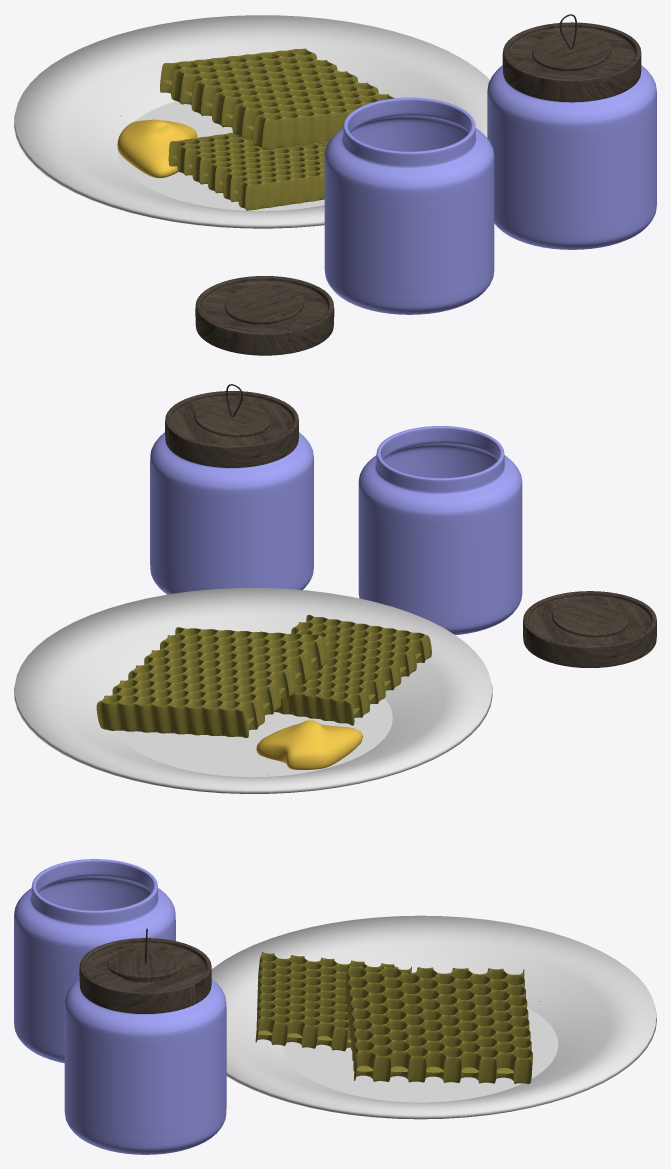
3 renders of one model, top to bottom at view 1: azimuth 30°, elevation 25°; view 2: azimuth 150°, elevation 25°; view 3: azimuth 270°, elevation 25°, orthographic. The views are drawn at different scales.
Parts seen in each view (by area): view 1: Circle, honey_pot.002, honey_pot.001, Círculo.001, pot_small_cup.001, pot_small_cup, honey.003; view 2: Circle, honey_pot.002, Círculo.001, honey_pot.001, pot_small_cup.001, pot_small_cup, honey.003; view 3: Circle, Círculo.001, honey_pot.001, honey_pot.002, pot_small_cup.
Boxes of the visible parts, x1=… form: Circle: x1=14, y1=15, x2=489, y2=228; honey_pot.002: x1=324, y1=97, x2=494, y2=314; honey_pot.001: x1=487, y1=65, x2=656, y2=249; Círculo.001: x1=160, y1=48, x2=394, y2=210; pot_small_cup.001: x1=195, y1=276, x2=334, y2=355; pot_small_cup: x1=502, y1=22, x2=641, y2=102; honey.003: x1=117, y1=119, x2=197, y2=178; Circle: x1=14, y1=588, x2=492, y2=793; honey_pot.002: x1=358, y1=426, x2=522, y2=634; Círculo.001: x1=96, y1=614, x2=431, y2=737; honey_pot.001: x1=150, y1=432, x2=313, y2=594; pot_small_cup.001: x1=523, y1=591, x2=656, y2=667; pot_small_cup: x1=165, y1=391, x2=298, y2=467; honey.003: x1=256, y1=720, x2=363, y2=769; Circle: x1=211, y1=915, x2=656, y2=1119; Círculo.001: x1=255, y1=952, x2=532, y2=1083; honey_pot.001: x1=64, y1=978, x2=226, y2=1154; honey_pot.002: x1=14, y1=859, x2=175, y2=1063; pot_small_cup: x1=79, y1=938, x2=211, y2=1013.
Size of the model in its own units: 35.86 by 19.36 by 44.32.
10 materials, 2 textured.
